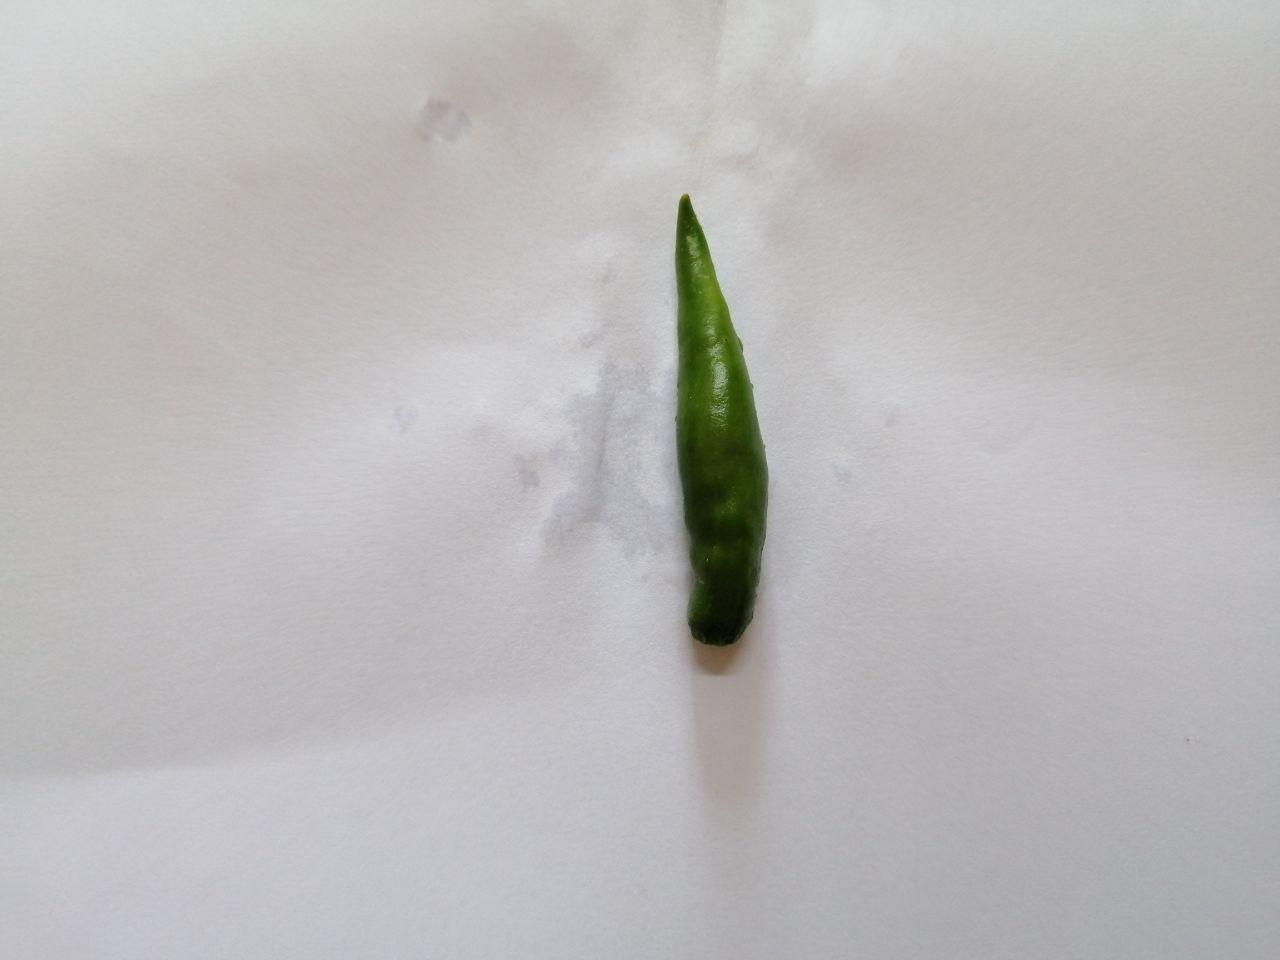lada hijau: (646, 187, 785, 665)
